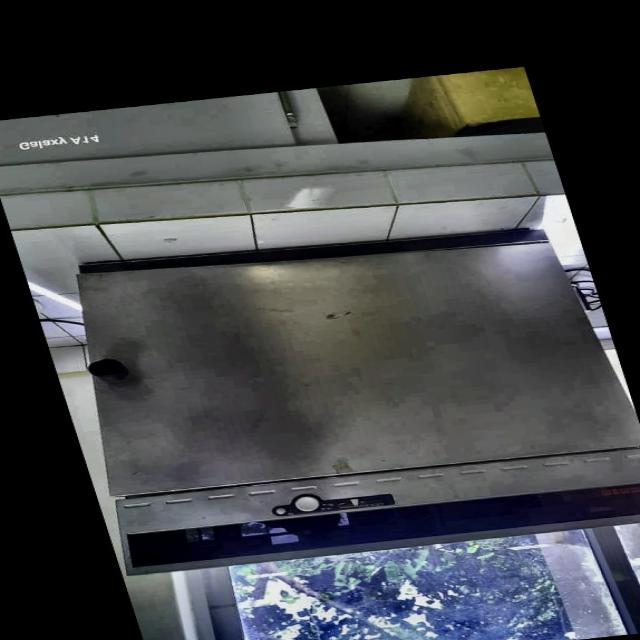Incubator: (28, 209, 640, 586)
